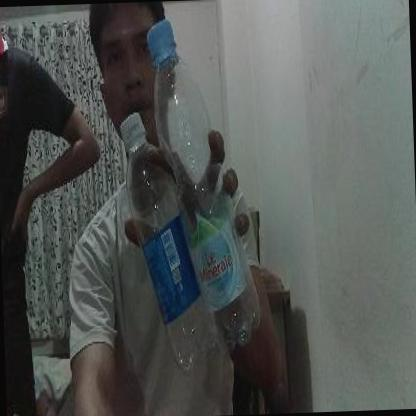plastic_bottles: (147, 15, 260, 356), (120, 112, 216, 373)
